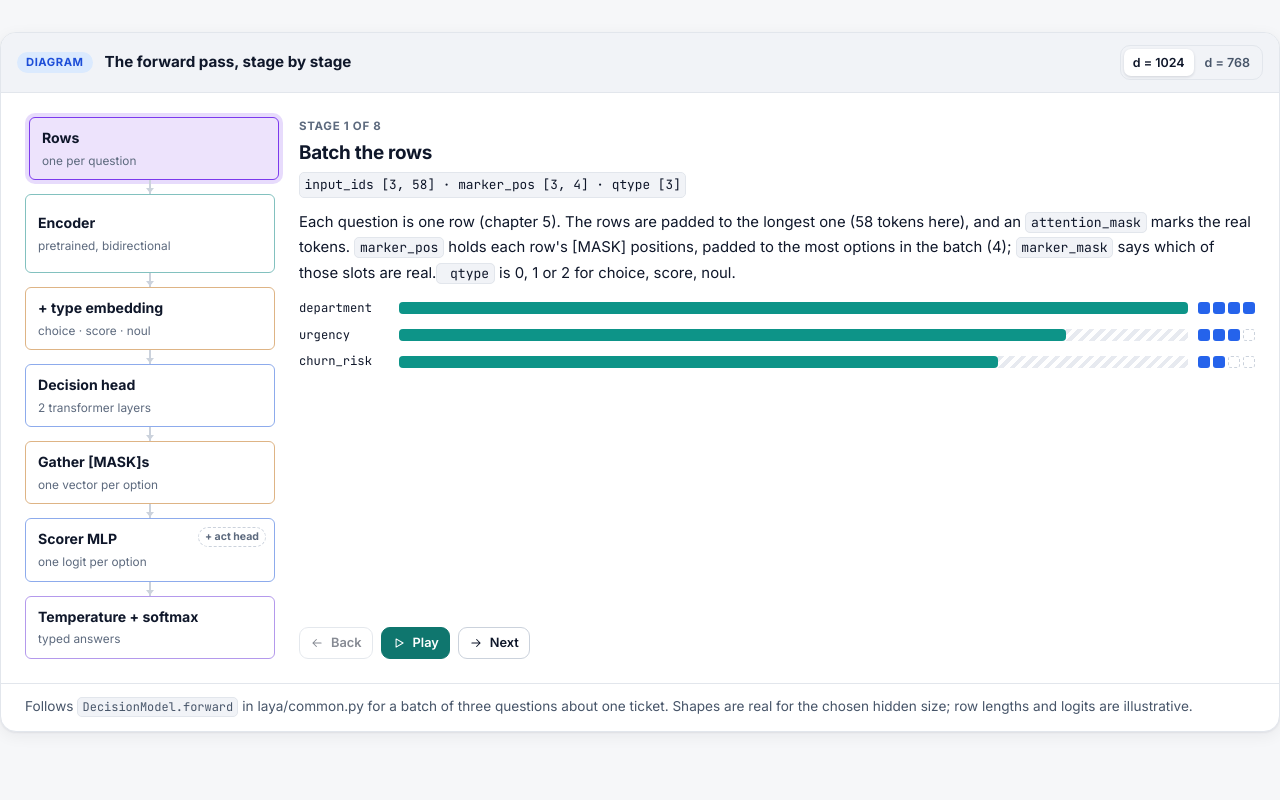
Test case: ForwardPass › jumps to a stage from the pipeline and decodes the example batch
Click the button "Temperature + softmax typed answers" at (150,627), box [25,596,275,658]
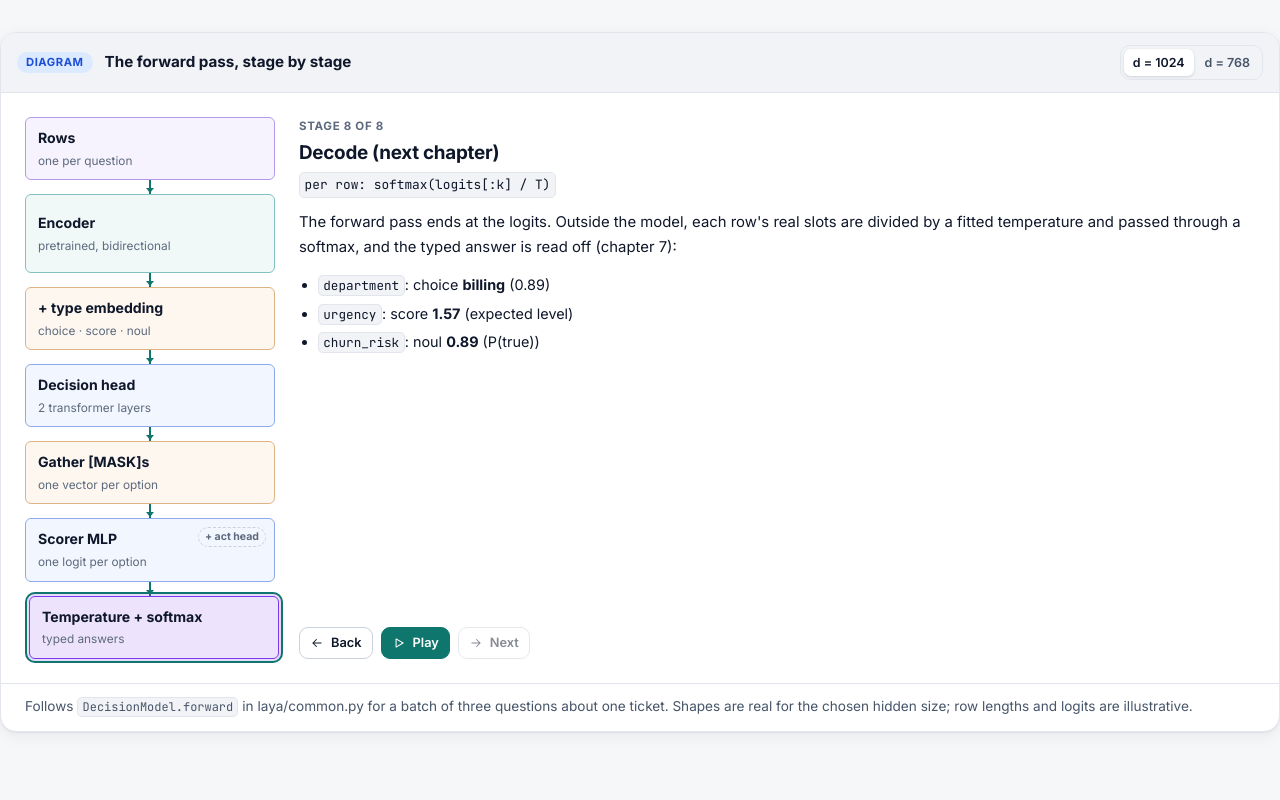
Expected: the text "Decode (next chapter)" is shown, [299,141,499,164]
Expected: the text "billing" is shown, [462,276,505,293]
